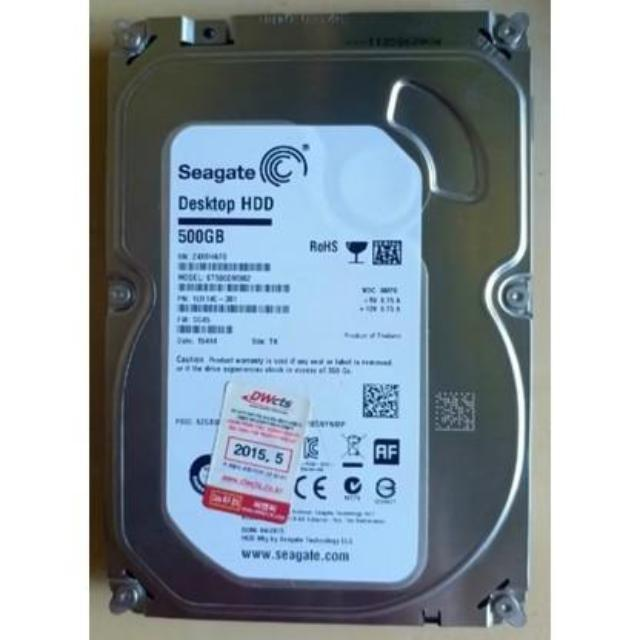DISK: (102, 10, 538, 627)
